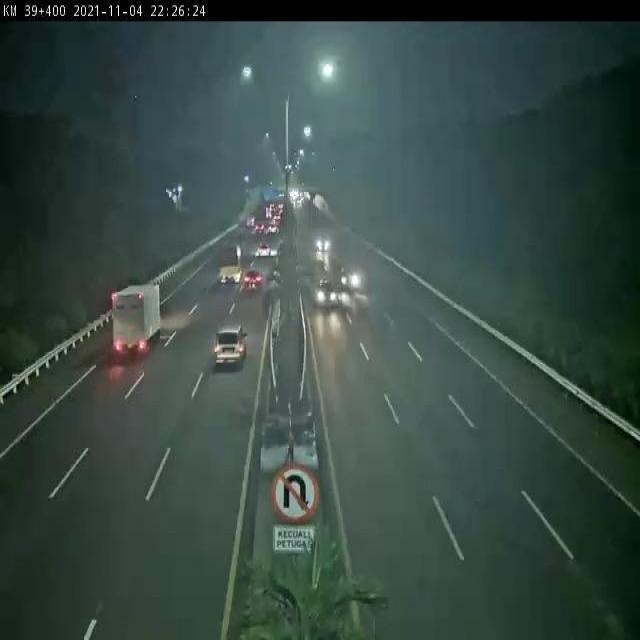car: (215, 328, 246, 367), (335, 263, 360, 289), (314, 278, 336, 306), (244, 270, 262, 290), (314, 235, 332, 249), (258, 244, 270, 257)
truck-l-: (112, 286, 162, 354)
truck-m-: (219, 247, 242, 284)
